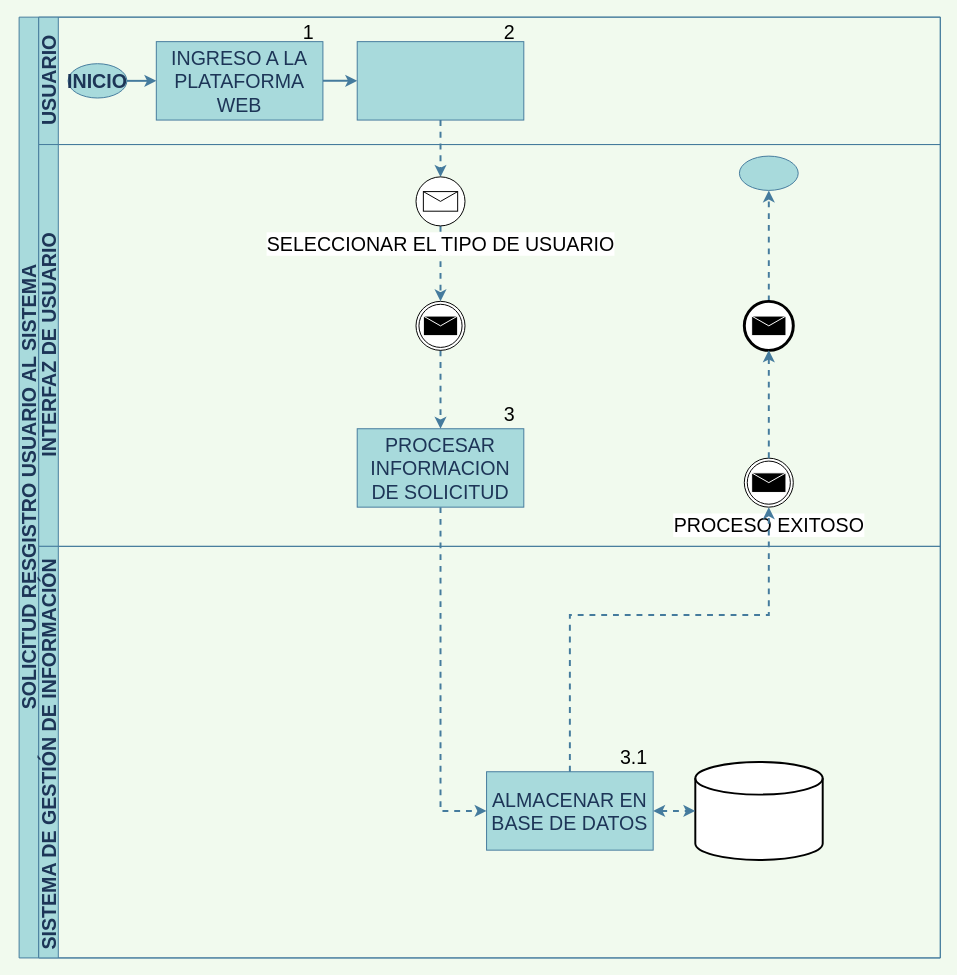
Some shapes in this 957 by 975 pixel diagram are drawn without their labels. The shapes that lost their labels are listed below. From the top down, each one's centre as x and y in pixels, then its label:
At (440,80): "SOLICITAR REGISTRO".
At (768,172): "FIN".
At (440,325): "DIGITE LAS DATOS SOLICITADOS".
At (768,325): "RECIBIRA UN CORREO EN LAS PROXIMAS 24 HORAS PARA CONFIRMAR SU REGISTRO".
At (758,810): "BASE DE DATOS DE SISTEMA".
